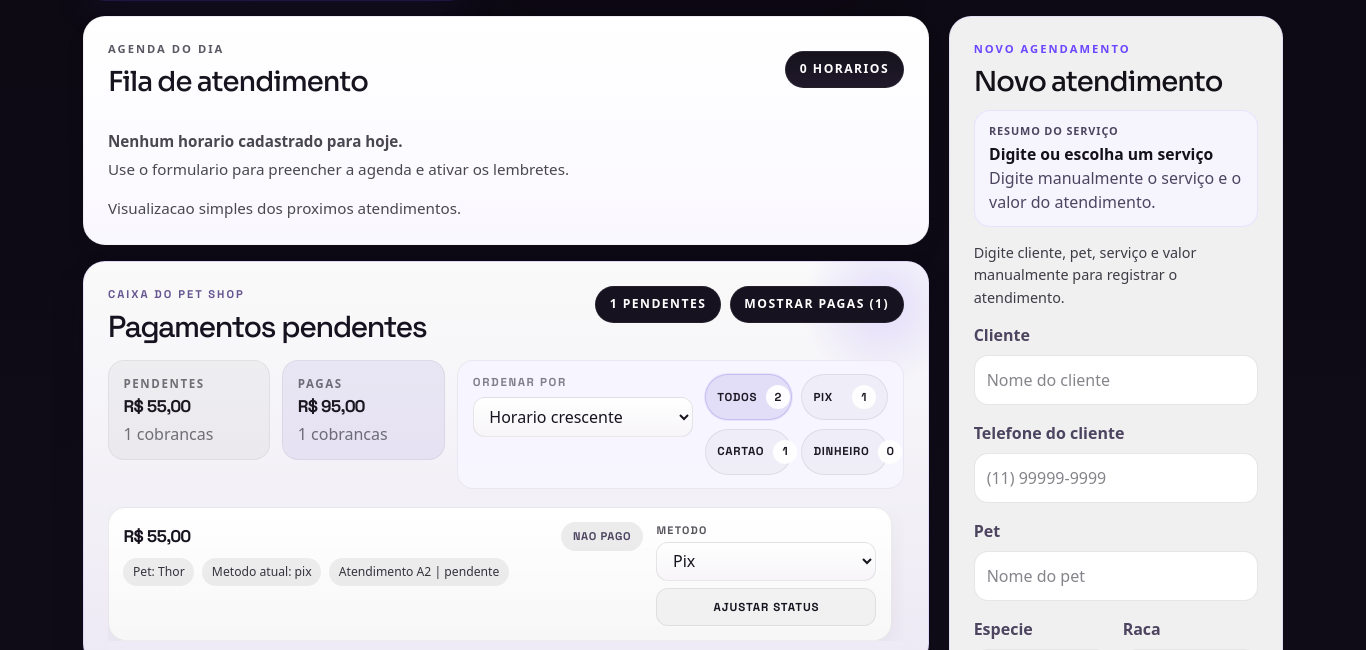
Test: App finance interactions › mostra apenas cobrancas pendentes por padrao e revela pagas sob demanda
(page scrolled)
Expected: the text "Pet: Thor" is shown, [123, 558, 194, 586]
Click the button "Mostrar pagas (1)" at point(817, 304), box [730, 286, 904, 323]
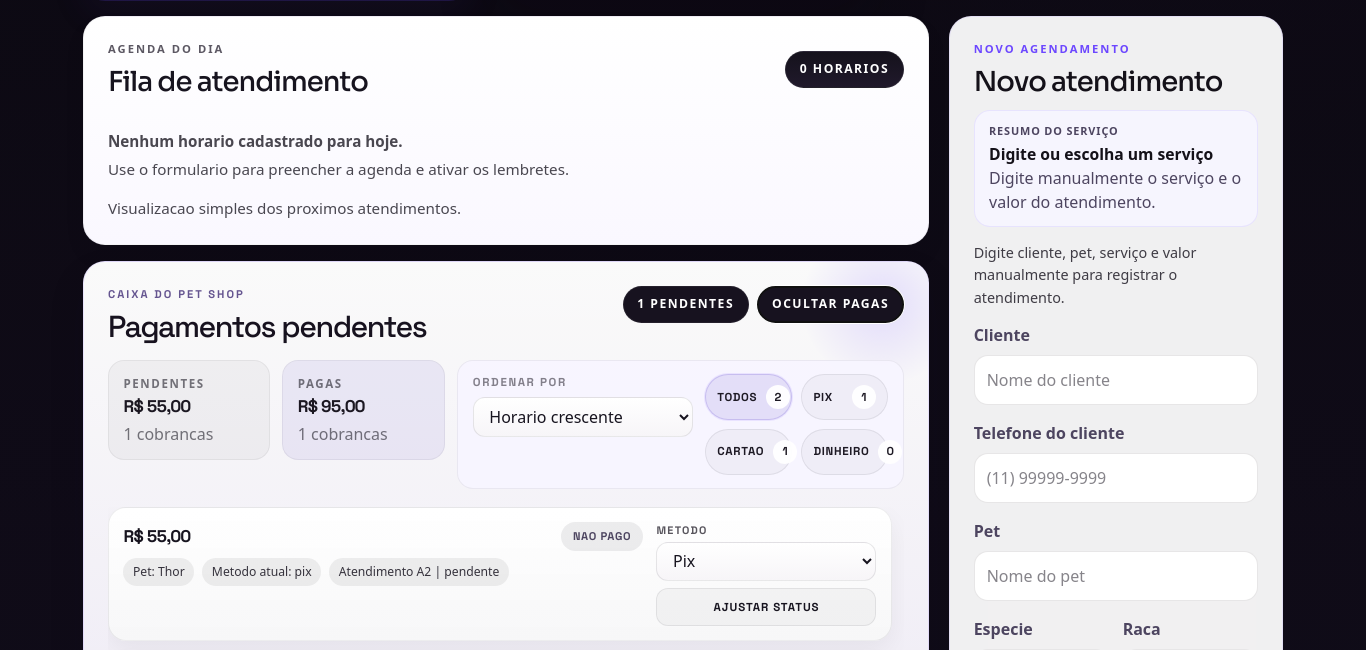
Result: the button "Ocultar pagas" is shown at [757, 286, 904, 323]
